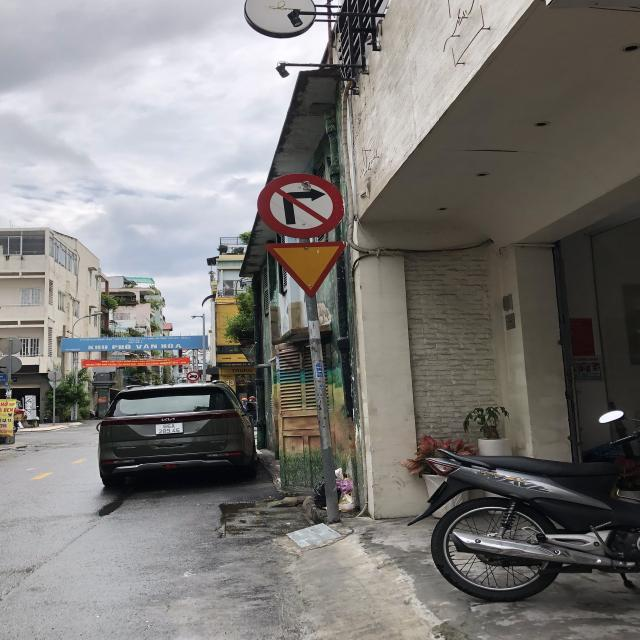Bien bao cam re phai: (256, 170, 349, 236)
Bien bao giao nhau voi duong uu tien: (258, 236, 350, 302)
